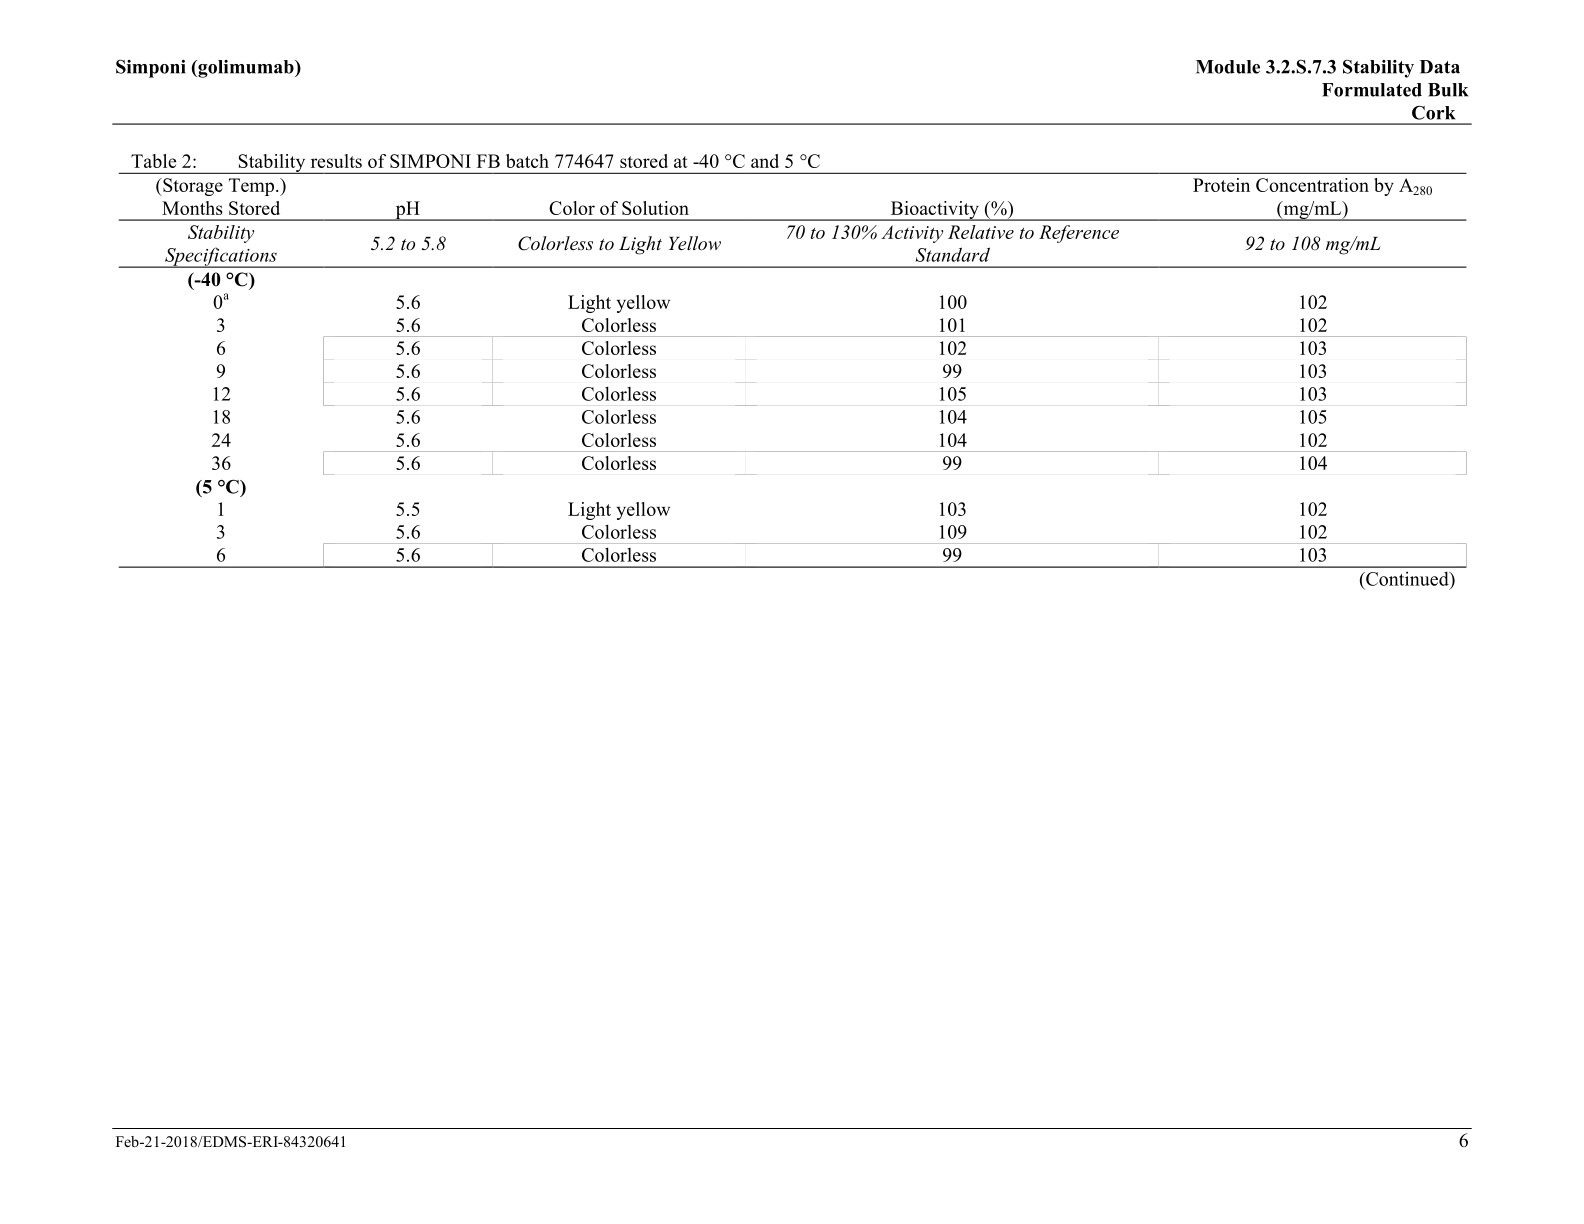partial_lined: (118, 171, 1470, 570)
